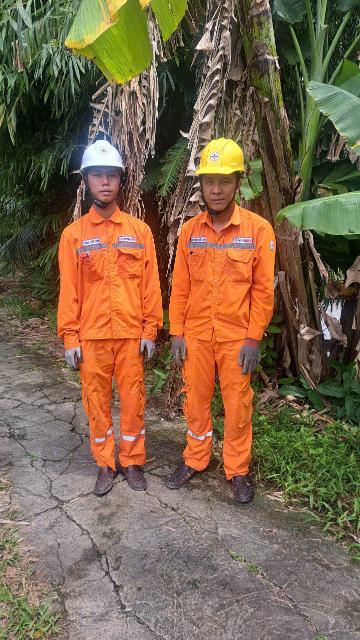gloves: (226, 330, 264, 368), (165, 330, 192, 367), (135, 329, 159, 366), (65, 344, 92, 371)
helmet: (76, 135, 139, 176), (197, 133, 251, 174)
shoes: (161, 454, 201, 494), (118, 453, 156, 493), (221, 466, 258, 506), (83, 461, 119, 493)
